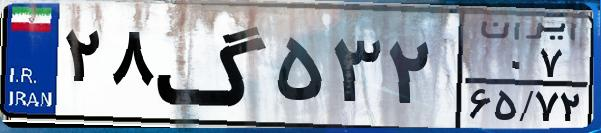0: (508, 27, 537, 80)
2: (385, 28, 445, 110), (57, 26, 110, 100), (560, 70, 590, 125)
3: (330, 28, 385, 110)
5: (270, 28, 330, 110), (495, 70, 520, 125)
6: (470, 70, 495, 125)
7: (537, 27, 568, 80), (535, 70, 560, 125)
8: (110, 28, 156, 98)
گ: (156, 12, 270, 120)
